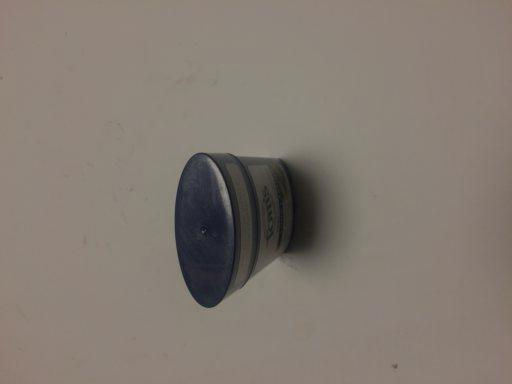trash: (172, 153, 298, 309)
